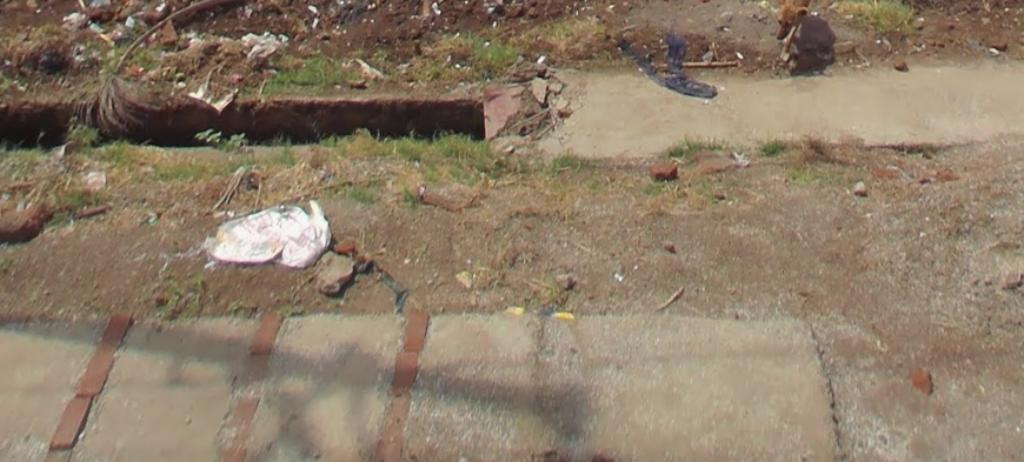garbage: (198, 186, 342, 284)
